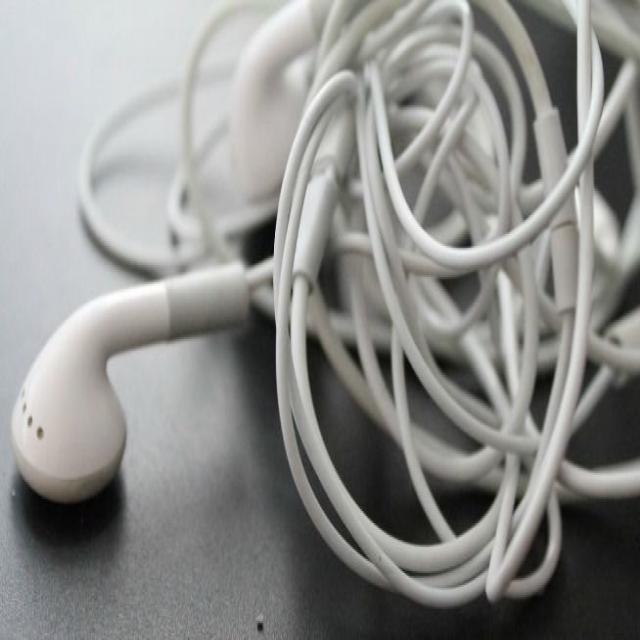headphones: (22, 104, 442, 576)
